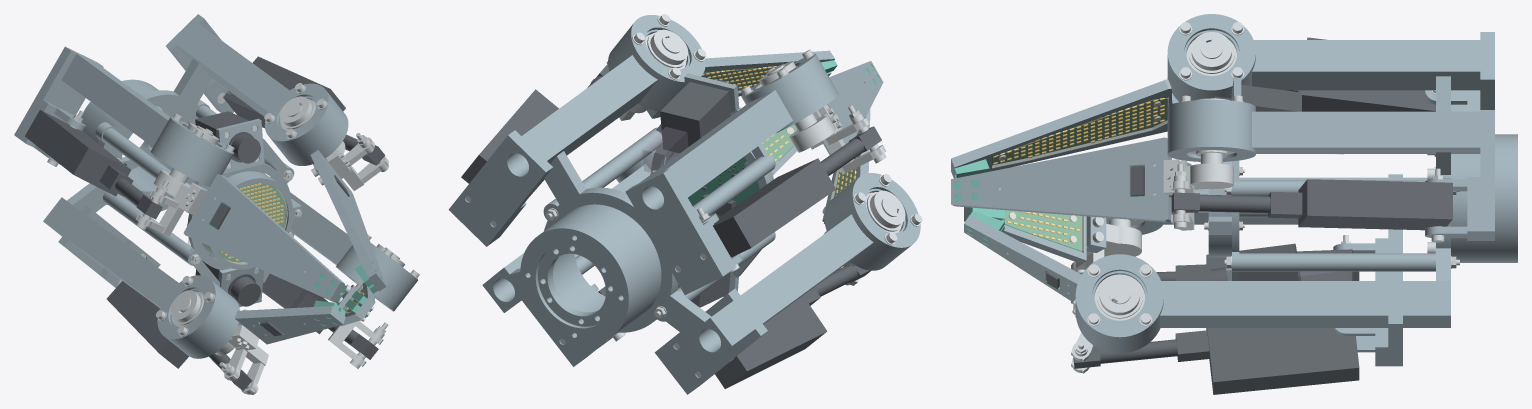
Rendered from HEAD-INTEGRATED04-closed.glb.
3 views of the same model, side by side, from view 1: azimuth 30°, elevation 25°; view 2: azimuth 150°, elevation 25°; view 3: azimuth 270°, elevation 25° (orthographic). The views are drawn at different scales.
Parts seen in each view (by area): view 1: main_carrier, UL_metal_blade_with_narrow_tongue, UL_P16_envelope_case, CD01-optical-frame, UR_metal_blade_with_narrow_tongue, LL_metal_blade_with_narrow_tongue, LL_P16_envelope_case, LL_bearing_outer_cap, UL_integral_steel_crank_spindle, UR_bearing_outer_cap, LL_integral_steel_crank_spindle, UR_integral_steel_crank_spindle (+25 smaller); view 2: main_carrier, J7_existing_adapter, UL_P16_envelope_case, J7_extension24, LL_P16_envelope_case, camera_1_physical_keepout, LL_bearing_outer_cap, UR_bearing_outer_cap, UL_integral_steel_crank_spindle, UL_metal_blade_with_narrow_tongue, UR_P16_envelope_case, CD01-optical-frame (+19 smaller); view 3: main_carrier, UR_metal_blade_with_narrow_tongue, LR_P16_envelope_case, UR_P16_envelope_case, UL_metal_blade_with_narrow_tongue, UL_lamp_optical_sheet, LR_bearing_outer_cap, optic_column_35.0_-22.0, UL_bearing_outer_cap, J7_existing_adapter, LR_metal_blade_with_narrow_tongue, UL_P16_envelope_case (+28 smaller).
Part boxes in pixels (bbox=[...]): main_carrier: bbox=[14, 14, 414, 358]; UL_metal_blade_with_narrow_tongue: bbox=[183, 174, 344, 302]; UL_P16_envelope_case: bbox=[25, 109, 131, 196]; CD01-optical-frame: bbox=[185, 118, 294, 307]; UR_metal_blade_with_narrow_tongue: bbox=[310, 149, 386, 291]; LL_metal_blade_with_narrow_tongue: bbox=[235, 306, 345, 344]; LL_P16_envelope_case: bbox=[106, 281, 188, 368]; LL_bearing_outer_cap: bbox=[157, 275, 219, 342]; UL_integral_steel_crank_spindle: bbox=[135, 125, 213, 235]; UR_bearing_outer_cap: bbox=[264, 83, 331, 144]; LL_integral_steel_crank_spindle: bbox=[175, 296, 268, 394]; UR_integral_steel_crank_spindle: bbox=[285, 101, 388, 190]; main_carrier: bbox=[448, 28, 906, 394]; J7_existing_adapter: bbox=[520, 220, 639, 344]; UL_P16_envelope_case: bbox=[712, 158, 836, 257]; J7_extension24: bbox=[552, 204, 661, 326]; LL_P16_envelope_case: bbox=[715, 295, 827, 388]; camera_1_physical_keepout: bbox=[660, 80, 730, 153]; LL_bearing_outer_cap: bbox=[848, 173, 920, 251]; UR_bearing_outer_cap: bbox=[627, 15, 705, 86]; UL_integral_steel_crank_spindle: bbox=[766, 64, 885, 174]; UL_metal_blade_with_narrow_tongue: bbox=[816, 61, 883, 154]; UR_P16_envelope_case: bbox=[461, 89, 558, 195]; CD01-optical-frame: bbox=[651, 73, 775, 296]; main_carrier: bbox=[1075, 32, 1494, 366]; UR_metal_blade_with_narrow_tongue: bbox=[951, 137, 1189, 222]; LR_P16_envelope_case: bbox=[1206, 328, 1359, 394]; UR_P16_envelope_case: bbox=[1298, 179, 1452, 230]; UL_metal_blade_with_narrow_tongue: bbox=[951, 79, 1176, 178]; UL_lamp_optical_sheet: bbox=[993, 98, 1168, 168]; LR_bearing_outer_cap: bbox=[1075, 254, 1163, 339]; optic_column_35.0_-22.0: bbox=[1239, 253, 1435, 271]; UL_bearing_outer_cap: bbox=[1167, 14, 1255, 93]; J7_existing_adapter: bbox=[1495, 134, 1517, 262]; LR_metal_blade_with_narrow_tongue: bbox=[964, 215, 1081, 301]; UL_P16_envelope_case: bbox=[1298, 37, 1435, 111].
Bounding box in the file's own units: 0.2056 × 0.178 × 0.3083.
